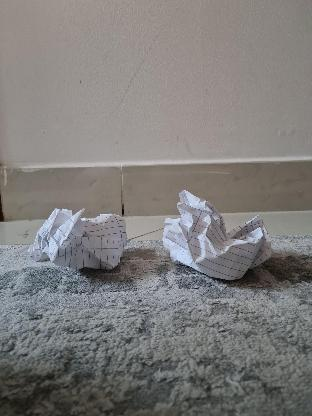Paper: (164, 190, 276, 280), (33, 208, 132, 272)
